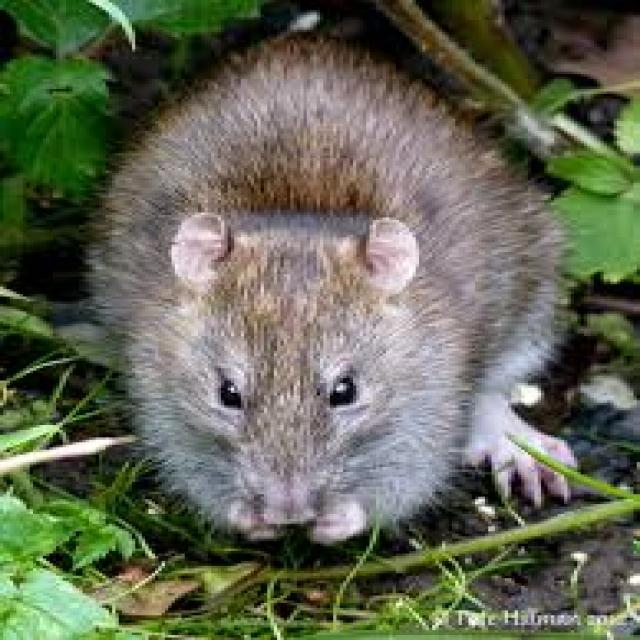Rat: (81, 28, 572, 557)
